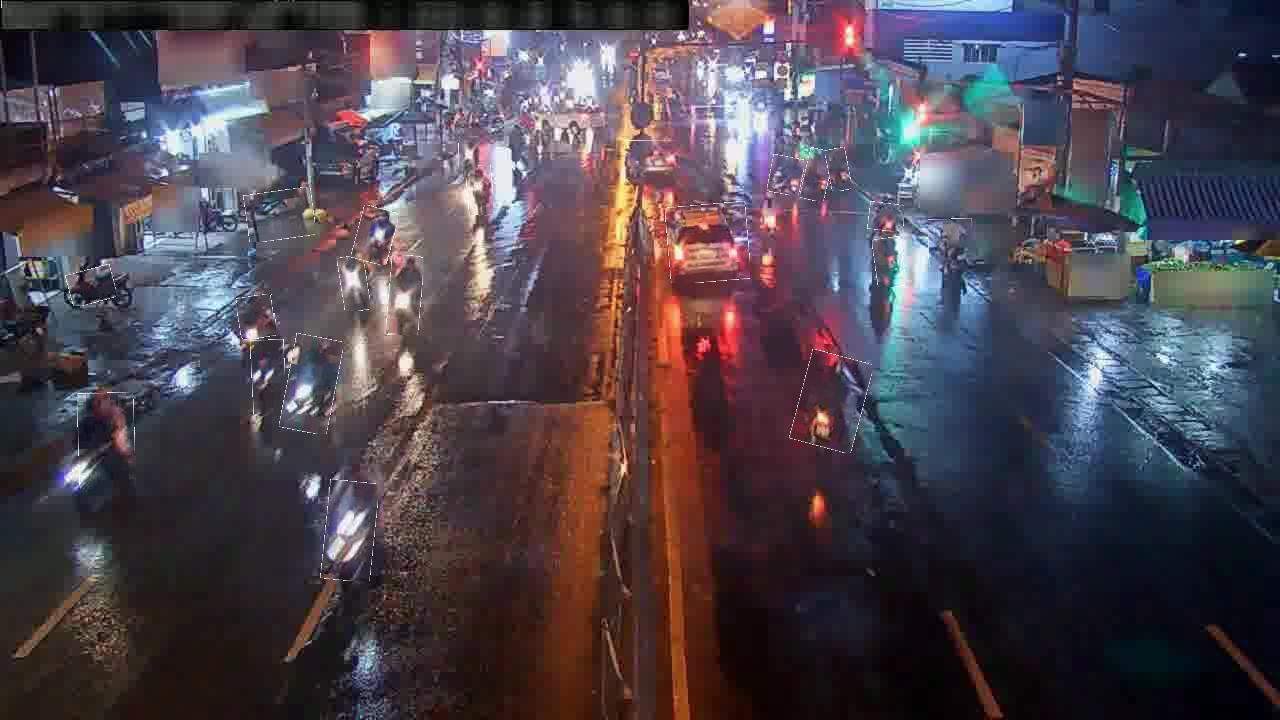container: (666, 203, 750, 283), (624, 140, 677, 183)
motorbike: (795, 353, 868, 451), (78, 393, 136, 490), (284, 335, 340, 434), (323, 480, 377, 581), (245, 189, 315, 241), (388, 256, 423, 336), (251, 340, 286, 415), (354, 207, 396, 265), (929, 219, 973, 268), (67, 267, 116, 305), (339, 255, 369, 312), (238, 295, 276, 339), (874, 237, 905, 288), (803, 148, 832, 201), (768, 156, 804, 195), (466, 166, 493, 216), (868, 202, 905, 231), (827, 148, 851, 192), (459, 136, 479, 178)
